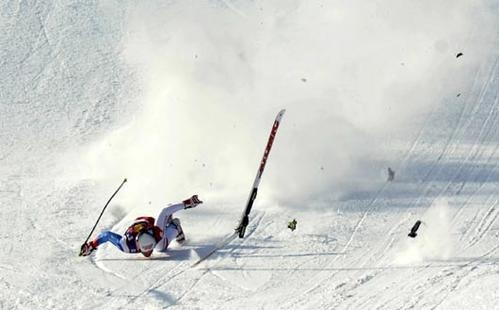falling: (70, 182, 216, 263)
